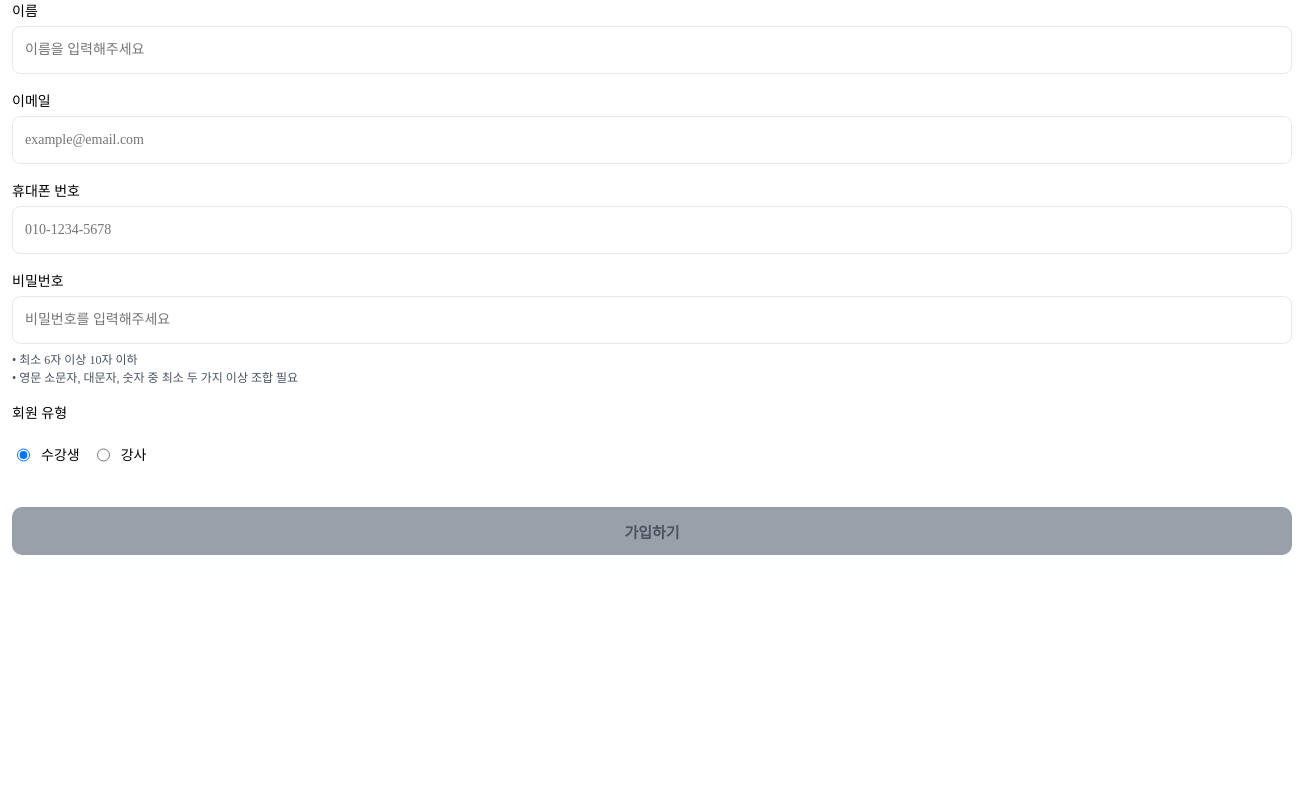
it: SignUpForm › 회원 유형 라디오가 기본 수강생 선택이며 강사로 변경할 수 있다
Expected: the radio button labelled "수강생" is checked, [17,431,30,479]
Click the radio button labelled "강사": point(103, 455) [97,431,110,479]
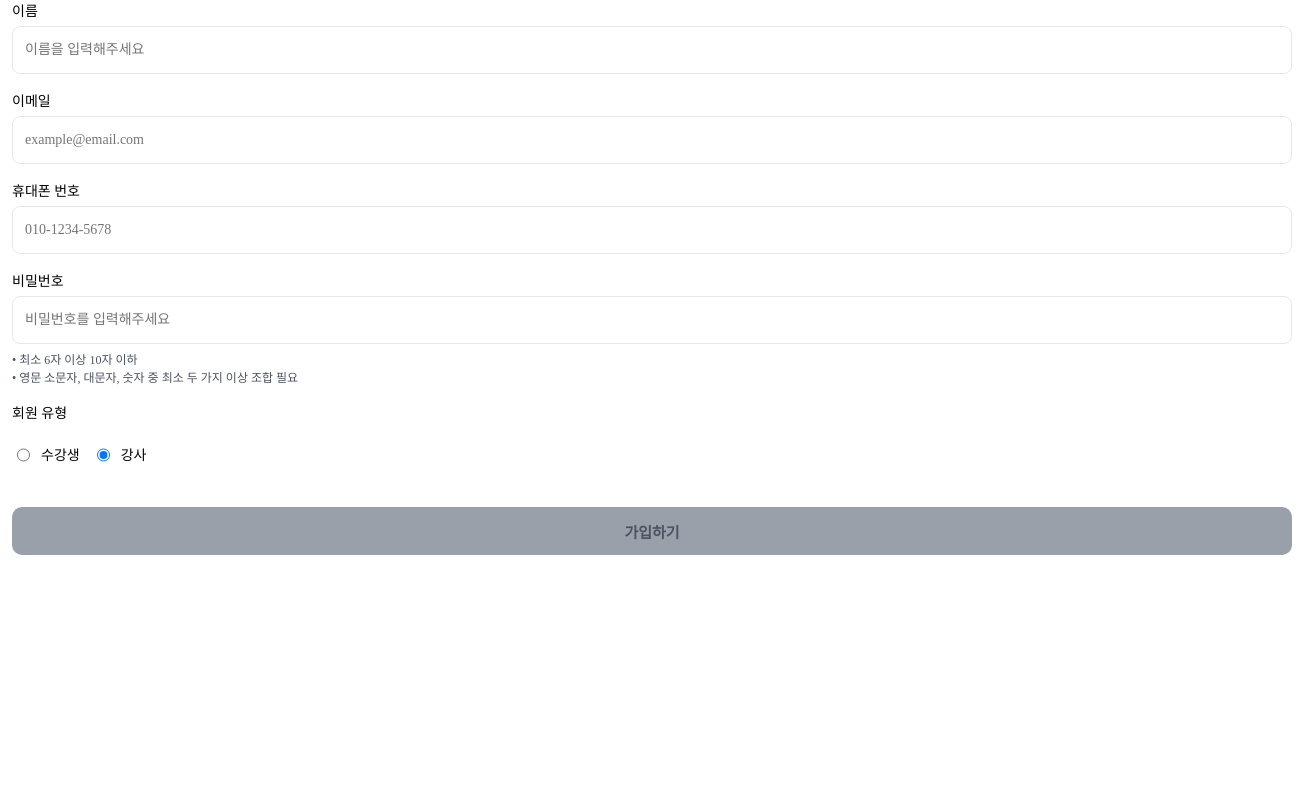
Expected: the radio button labelled "강사" is checked, [97,431,110,479]
Expected: the radio button labelled "수강생" is not checked, [17,431,30,479]
